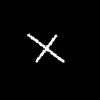single_crochet: (28, 34, 63, 61)
